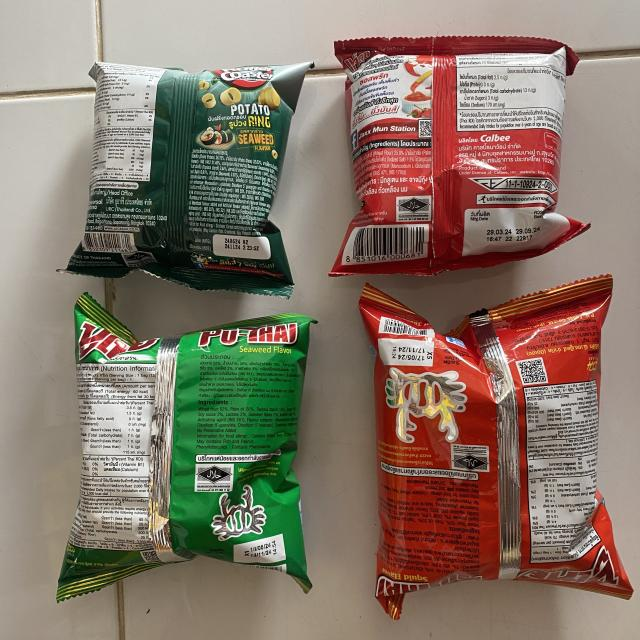plastik: (359, 275, 632, 619), (56, 294, 315, 601), (330, 36, 589, 275), (65, 61, 314, 296)
